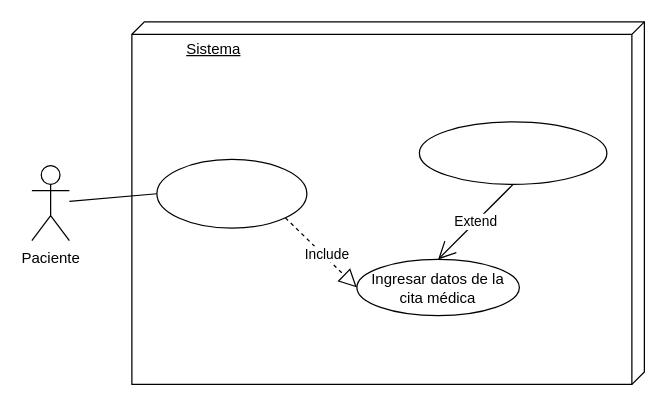
This 666x406 diagram has some shape labels left out. The shapes that lost their labels are listed below. From the top down, each one's centre as x and y in pixels, then its label:
point 512,152: Registrar datos ingresados
point 231,193: Acceder a "Registrar Cita Médica"
